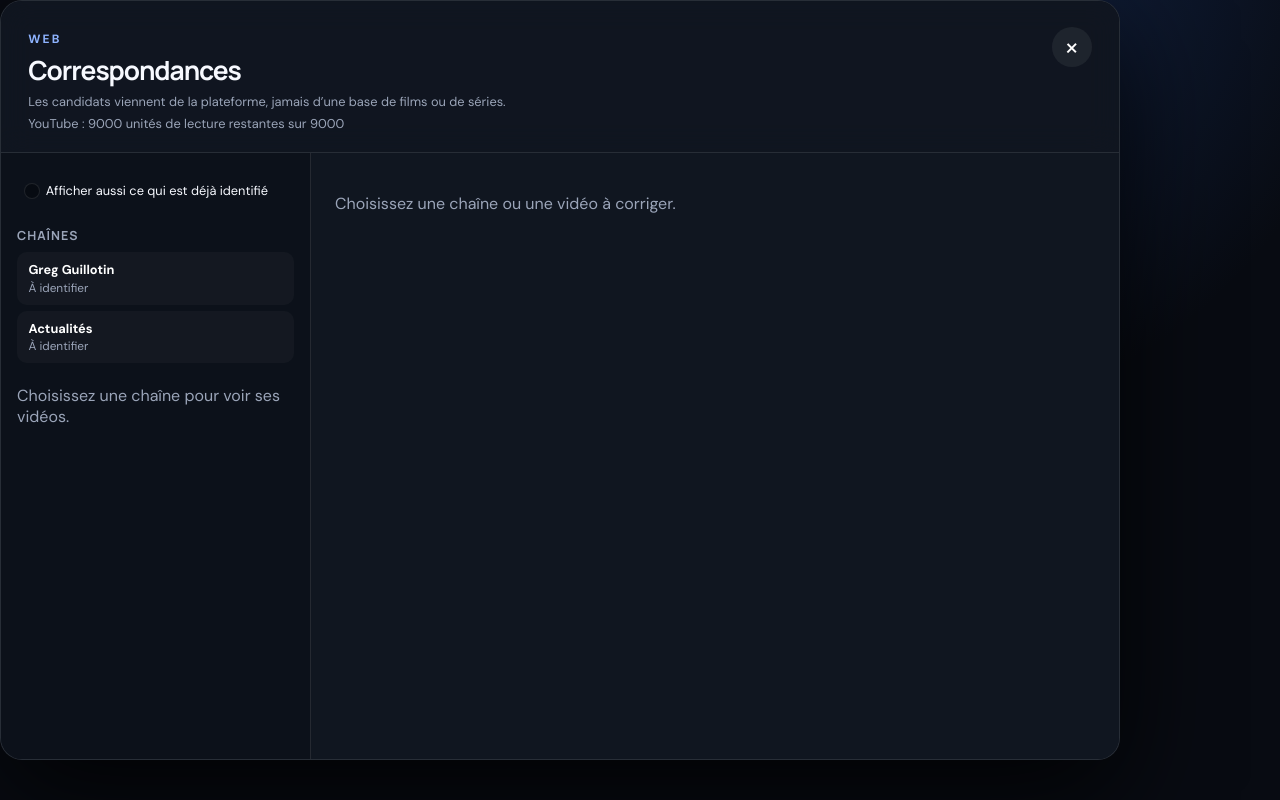
Test: les vidéos suivent la chaîne choisie › ne montre que les vidéos de cette chaîne-là
Click the text "Greg Guillotin": (71, 270) [28,261,114,278]
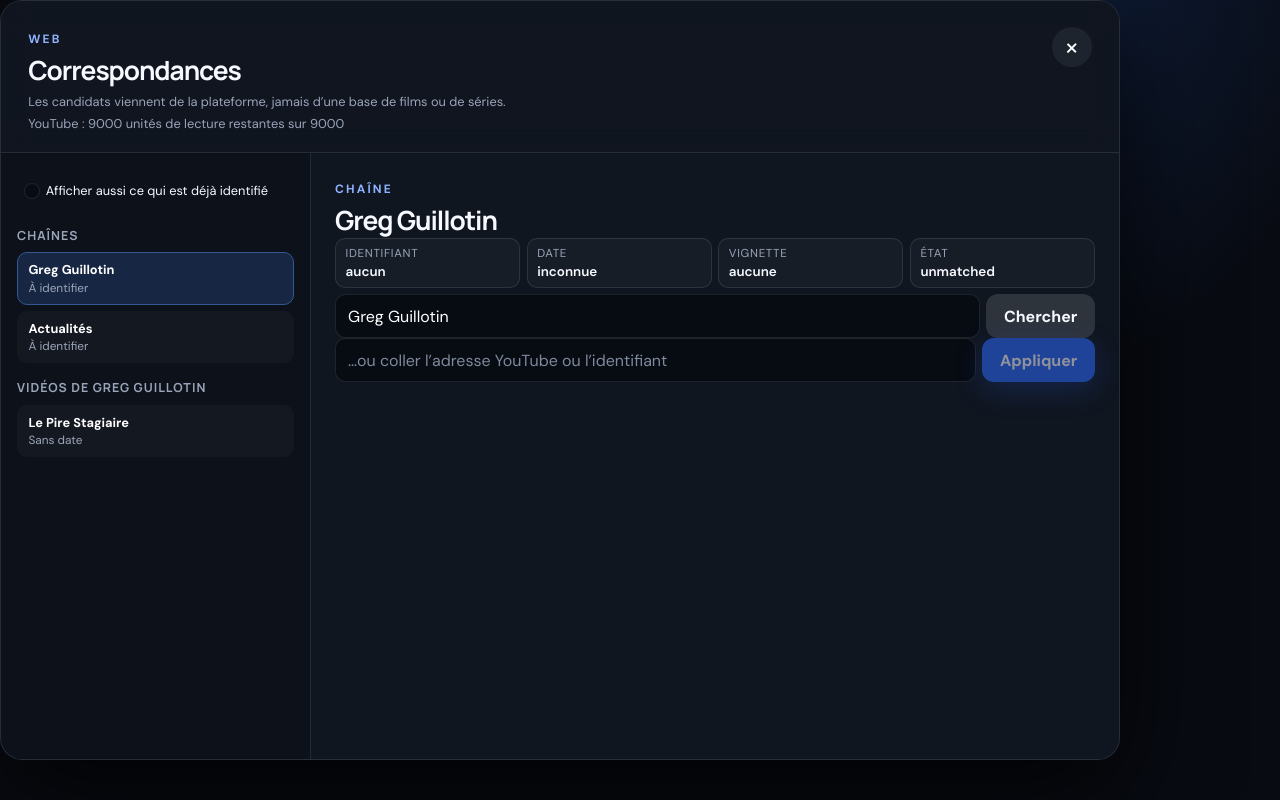
Check: the text "Le Pire Stagiaire" is shown, box [28,414,129,431]
Check: the heading "Vidéos de Greg Guillotin" is shown, box [17,379,206,396]
